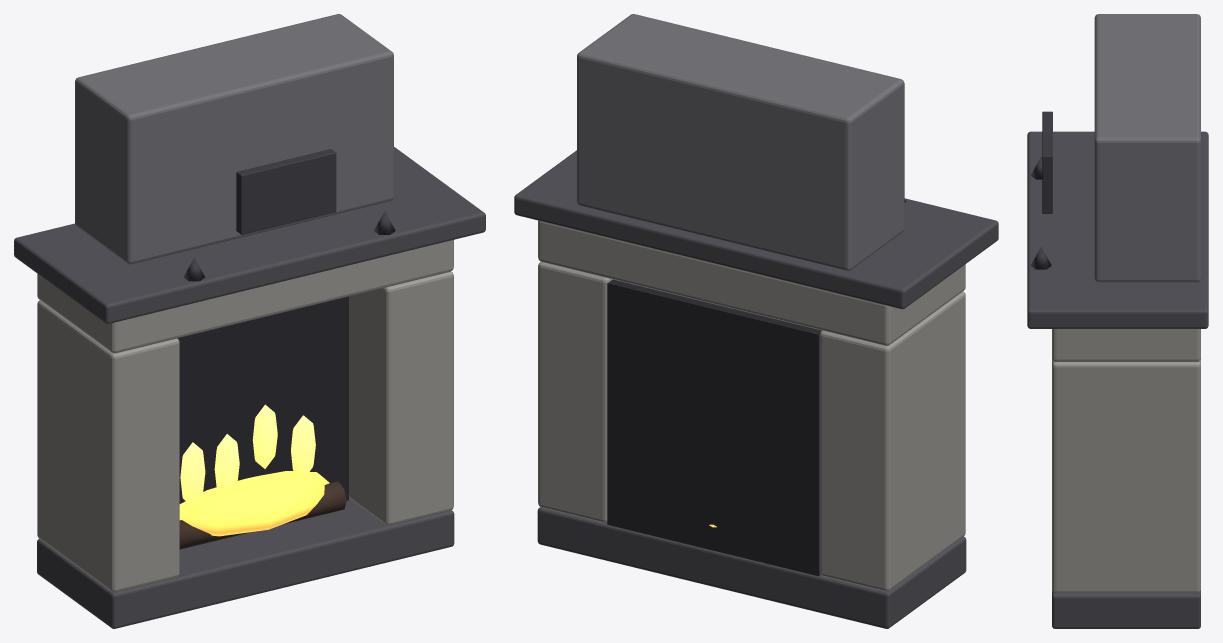
File: fireplace_stone_hearth.glb
The picture shows the model from 3 angles, left to right: view 1: azimuth 30°, elevation 25°; view 2: azimuth 150°, elevation 25°; view 3: azimuth 270°, elevation 25°; orthographic projection. The views are drawn at different scales.
Visible parts, largest first — view 1: GD_fireplace_stone_hearth__m1, GD_fireplace_stone_hearth__m5, GD_fireplace_stone_hearth__m0, GD_fireplace_stone_hearth__m6, GD_fireplace_stone_hearth__m4, GD_fireplace_stone_hearth__m3, GD_fireplace_stone_hearth__m2, GD_fireplace_stone_hearth__m7; view 2: GD_fireplace_stone_hearth__m1, GD_fireplace_stone_hearth__m5, GD_fireplace_stone_hearth__m6, GD_fireplace_stone_hearth__m0; view 3: GD_fireplace_stone_hearth__m1, GD_fireplace_stone_hearth__m5, GD_fireplace_stone_hearth__m0, GD_fireplace_stone_hearth__m4.
Boxes of the visible parts, x1,y1,x2,y2 form: GD_fireplace_stone_hearth__m1: (37, 240, 453, 592); GD_fireplace_stone_hearth__m5: (75, 14, 393, 264); GD_fireplace_stone_hearth__m0: (14, 147, 485, 628); GD_fireplace_stone_hearth__m6: (177, 296, 348, 503); GD_fireplace_stone_hearth__m4: (183, 149, 395, 281); GD_fireplace_stone_hearth__m3: (179, 471, 329, 536); GD_fireplace_stone_hearth__m2: (180, 404, 315, 500); GD_fireplace_stone_hearth__m7: (179, 481, 346, 549); GD_fireplace_stone_hearth__m1: (538, 220, 965, 591); GD_fireplace_stone_hearth__m5: (577, 14, 904, 270); GD_fireplace_stone_hearth__m6: (607, 279, 821, 576); GD_fireplace_stone_hearth__m0: (514, 150, 998, 628); GD_fireplace_stone_hearth__m1: (1052, 329, 1200, 593); GD_fireplace_stone_hearth__m5: (1094, 14, 1200, 282); GD_fireplace_stone_hearth__m0: (1027, 131, 1208, 628); GD_fireplace_stone_hearth__m4: (1030, 111, 1052, 269).
Size of the model in its own units: 2 by 2.45 by 0.85.
